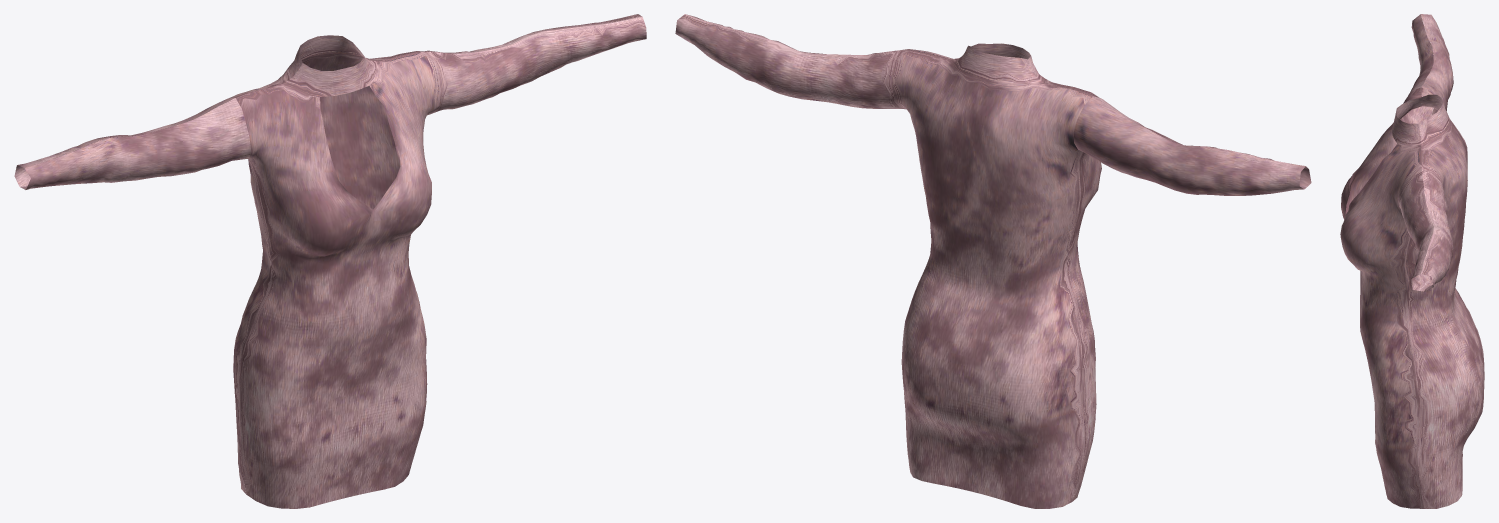
The model's file is small_velvetDress_noinside2.obj.
3 renders of one model, left to right at view 1: azimuth 30°, elevation 25°; view 2: azimuth 150°, elevation 25°; view 3: azimuth 270°, elevation 25°, orthographic. The views are drawn at different scales.
Visible parts, largest first — view 1: small_velvetDress_noinside:polySurface2 small_velvetDress_noinsi; view 2: small_velvetDress_noinside:polySurface2 small_velvetDress_noinsi; view 3: small_velvetDress_noinside:polySurface2 small_velvetDress_noinsi.
Boxes of the visible parts, x1,y1,x2,y2 form: small_velvetDress_noinside:polySurface2 small_velvetDress_noinsi: [14, 14, 646, 508]; small_velvetDress_noinside:polySurface2 small_velvetDress_noinsi: [675, 14, 1311, 508]; small_velvetDress_noinside:polySurface2 small_velvetDress_noinsi: [1340, 14, 1484, 508].
Size of the model in its own units: 11.63 by 7.82 by 2.71.
Materials: 8 (8 with a texture image).
